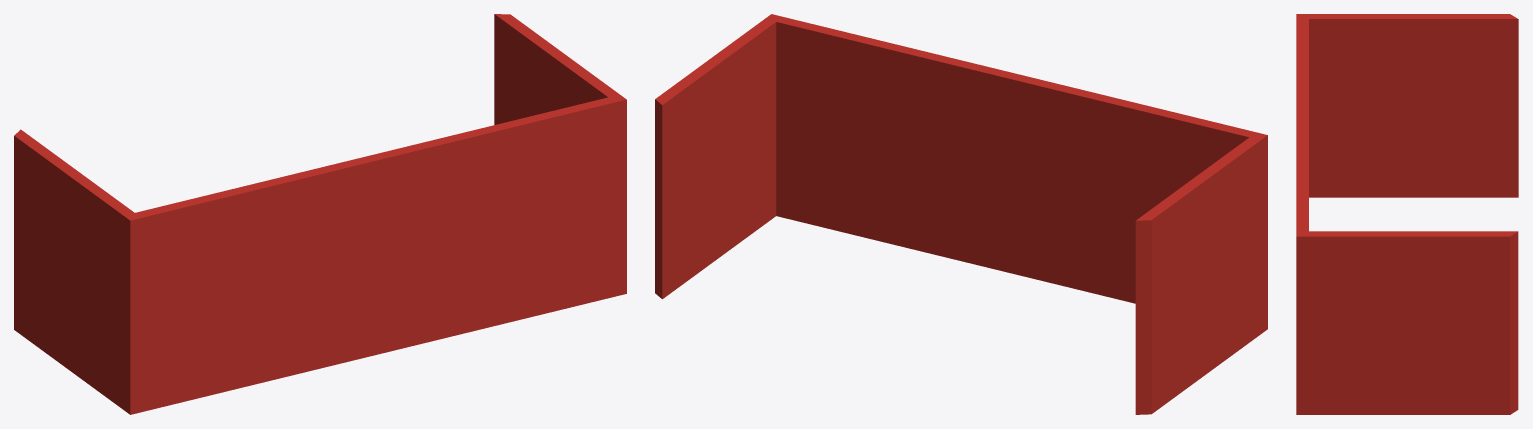
File: Room Skill Set Walls.gltf
3 views of the same model, side by side, from view 1: azimuth 30°, elevation 25°; view 2: azimuth 150°, elevation 25°; view 3: azimuth 270°, elevation 25° (orthographic). The views are drawn at different scales.
Visible parts, largest first — view 1: Skill; view 2: Skill; view 3: Skill.
Part boxes in pixels (box(x1,y1,x2,y2)): Skill: box(14, 14, 626, 414); Skill: box(655, 14, 1267, 414); Skill: box(1296, 14, 1518, 414).
Bounding box in the file's own units: 0.8261 × 0.3089 × 0.3484.
Materials: 1 (1 with a texture image).
